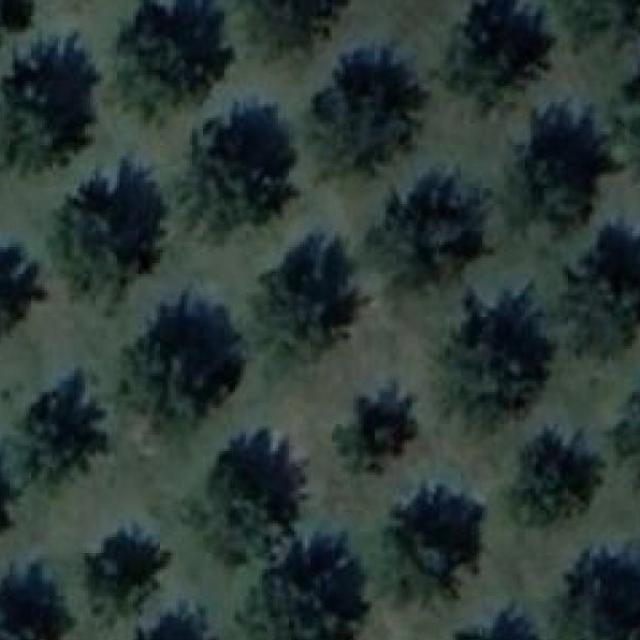Tree: (103, 285, 248, 454), (436, 283, 568, 438), (178, 430, 316, 578), (495, 100, 622, 253), (37, 156, 163, 309), (168, 100, 300, 239), (366, 175, 495, 299), (236, 531, 375, 640), (0, 32, 104, 177), (15, 365, 120, 503), (117, 0, 233, 123), (386, 469, 488, 607), (447, 0, 558, 121), (252, 236, 354, 365), (313, 54, 423, 172), (555, 222, 640, 359), (506, 424, 606, 535), (76, 521, 173, 628), (331, 390, 420, 479), (552, 550, 640, 640), (0, 558, 78, 639), (248, 0, 359, 54), (602, 352, 640, 503), (0, 242, 47, 360), (549, 0, 640, 57), (112, 598, 225, 640), (424, 603, 550, 640), (613, 49, 640, 178), (0, 424, 21, 569), (1, 0, 38, 18)
